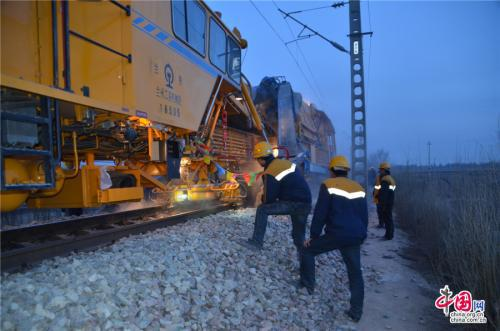helmet: (327, 154, 354, 181), (250, 141, 276, 169), (375, 159, 394, 176)
